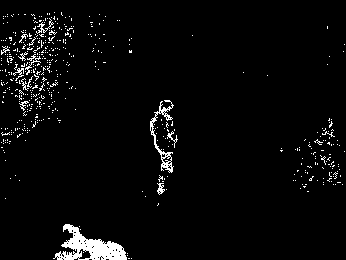person: (149, 96, 178, 197)
